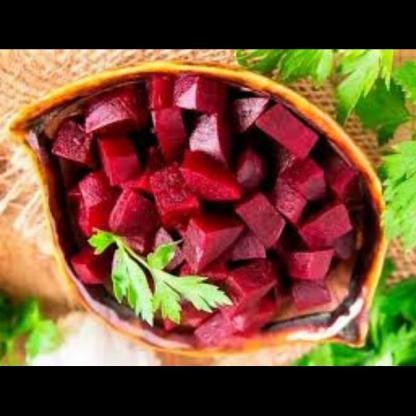beet: (30, 80, 357, 348)
